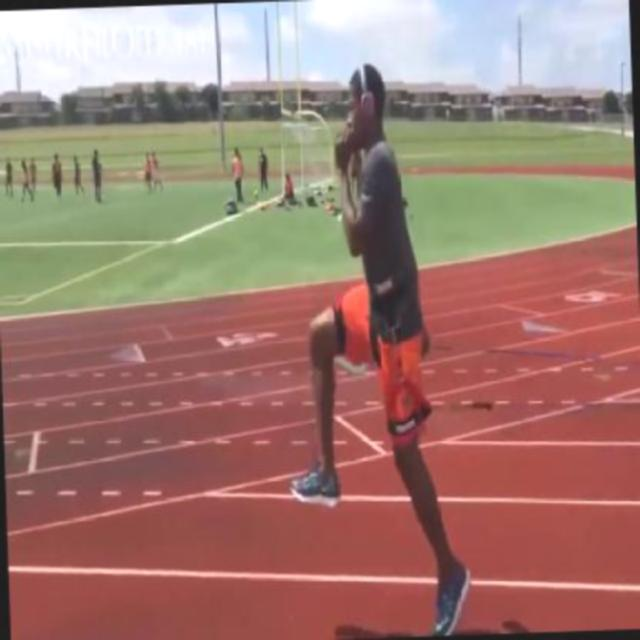non-fight: (272, 56, 474, 638)
